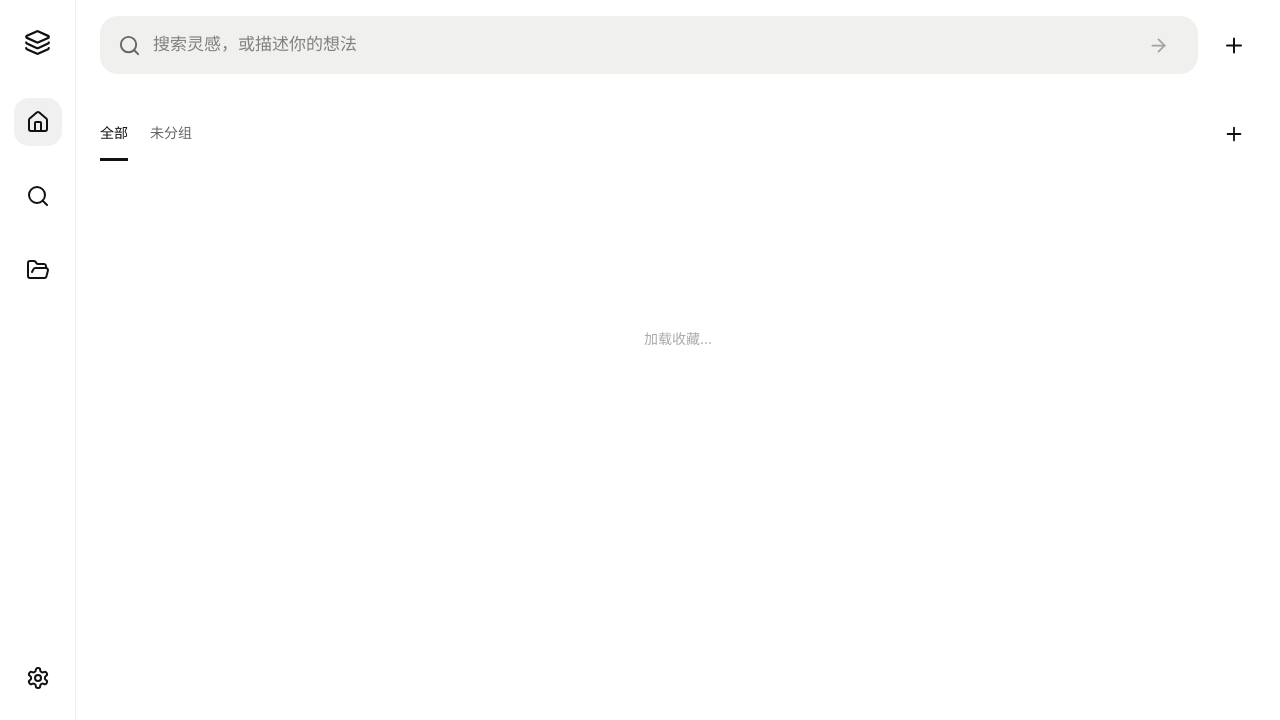
runs a separate visual analysis job after authorized search and displays actual device
The width and height of the screenshot is (1280, 720).
Type "kitty" into the field labelled "搜索灵感" at (638,45), box [153,20,1124,70]
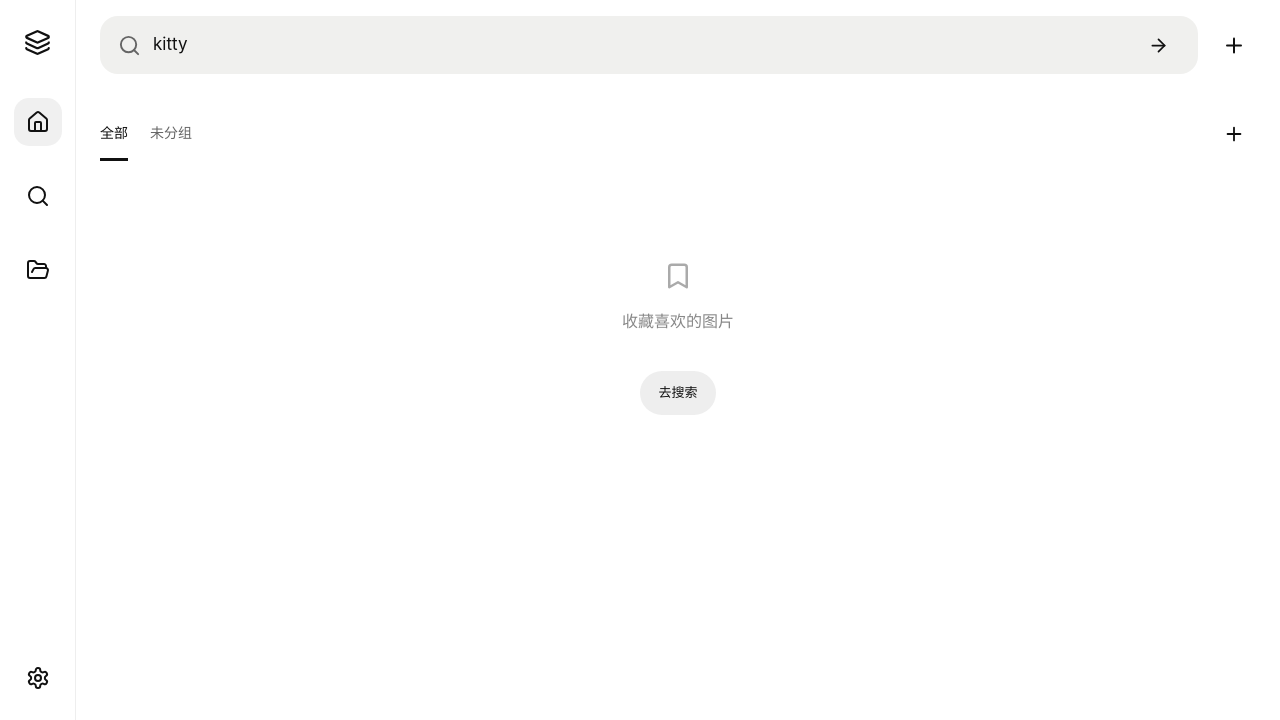
Click the button named "开始搜索" at (1158,45), box [1136,23,1180,67]
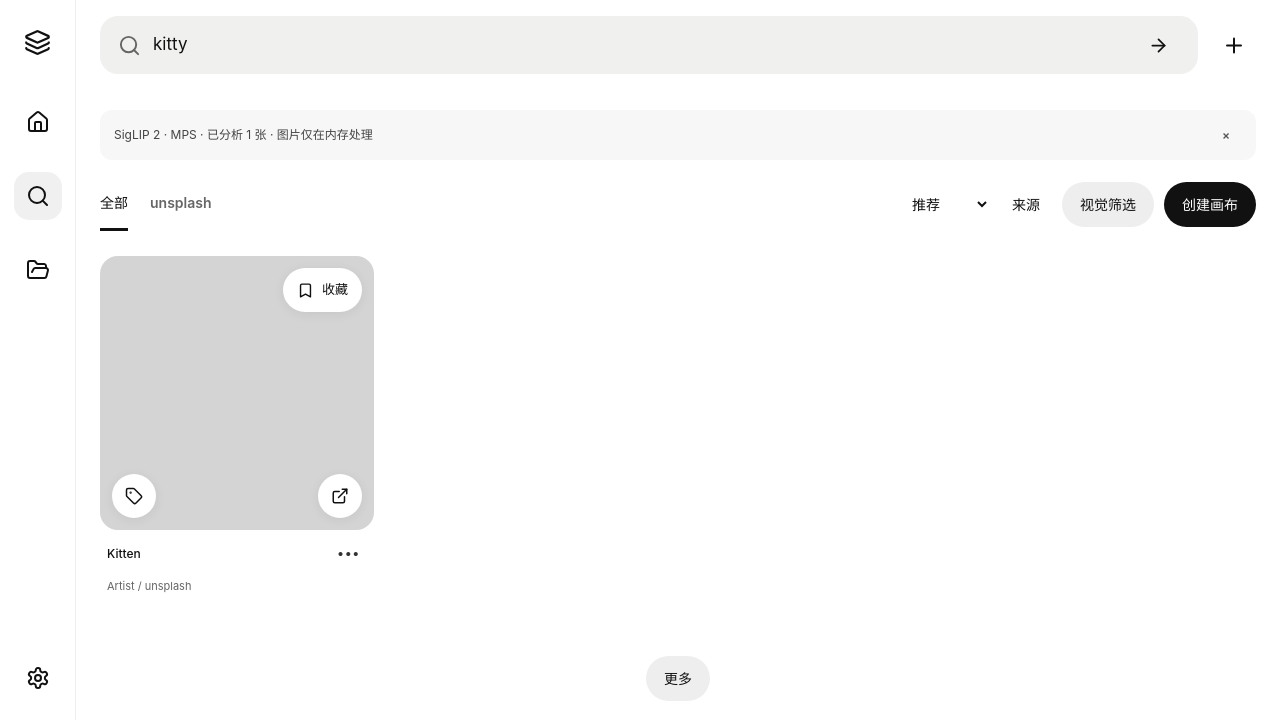
Expected: the text "SigLIP 2 · MPS · 已分析 1 张 · 图片仅在内存处理 ×" is shown, [100,110,1256,160]
